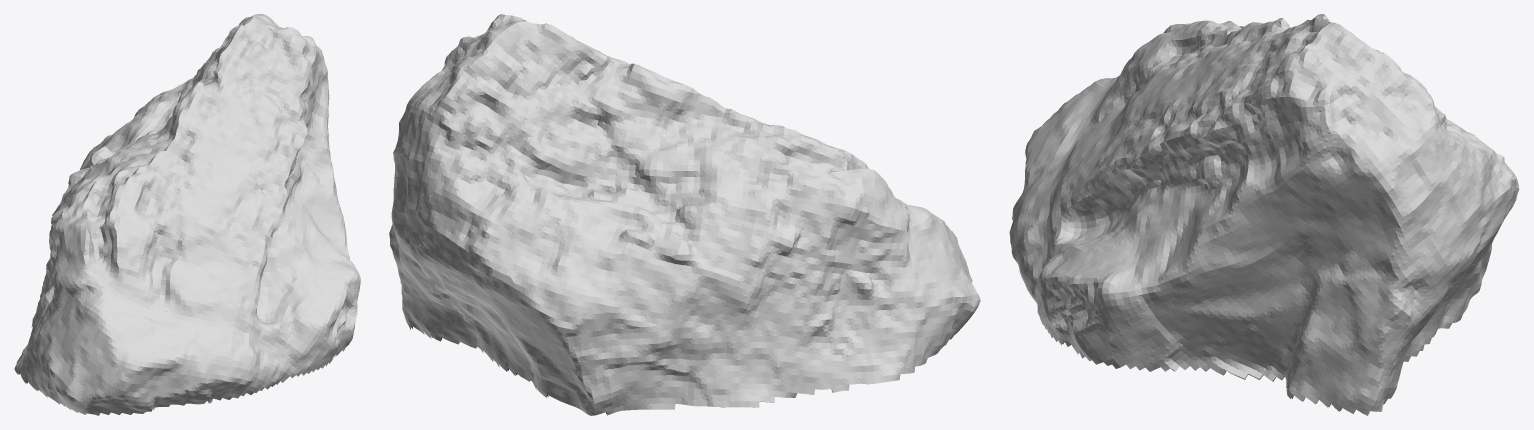
3 renders of one model, left to right at view 1: azimuth 30°, elevation 25°; view 2: azimuth 150°, elevation 25°; view 3: azimuth 270°, elevation 25°, orthographic. The views are drawn at different scales.
Visible parts, largest first — view 1: a_low_poly_stone.001; view 2: a_low_poly_stone.001; view 3: a_low_poly_stone.001.
Boxes of the visible parts, x1=… form: a_low_poly_stone.001: x1=14, y1=14, x2=360, y2=415; a_low_poly_stone.001: x1=389, y1=14, x2=980, y2=415; a_low_poly_stone.001: x1=1009, y1=14, x2=1519, y2=415.
Bounding box in the file's own units: 3.33 × 2.25 × 3.04.
2 materials, 1 textured.
